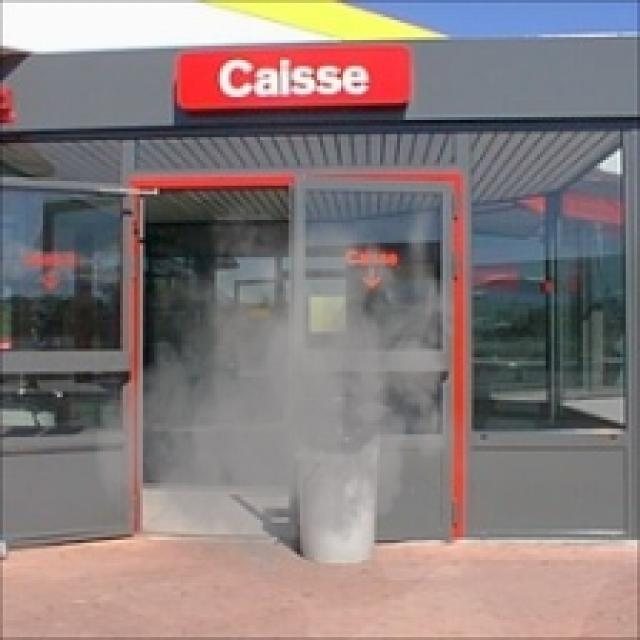Smoke: (82, 180, 474, 594)
